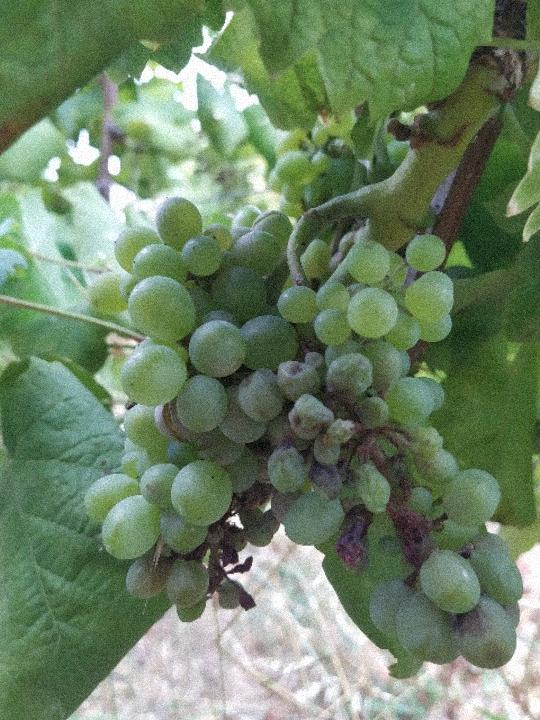grape: (79, 192, 528, 673)
